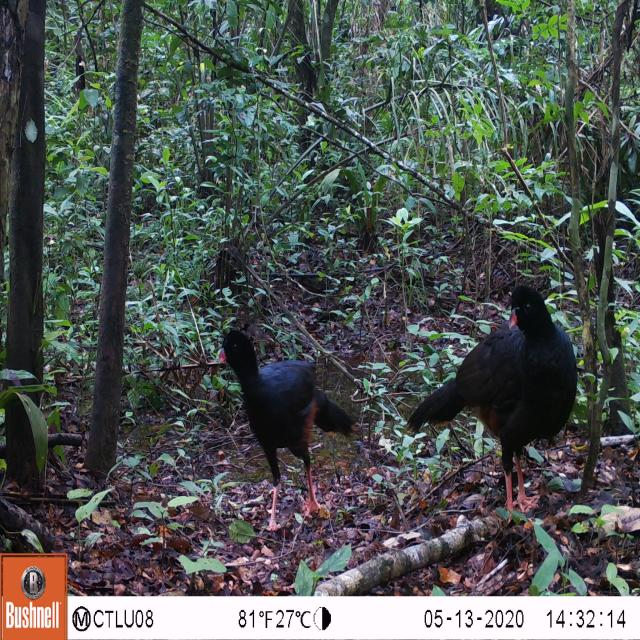Salvins Curassow: (407, 263, 605, 533), (213, 321, 374, 536)
